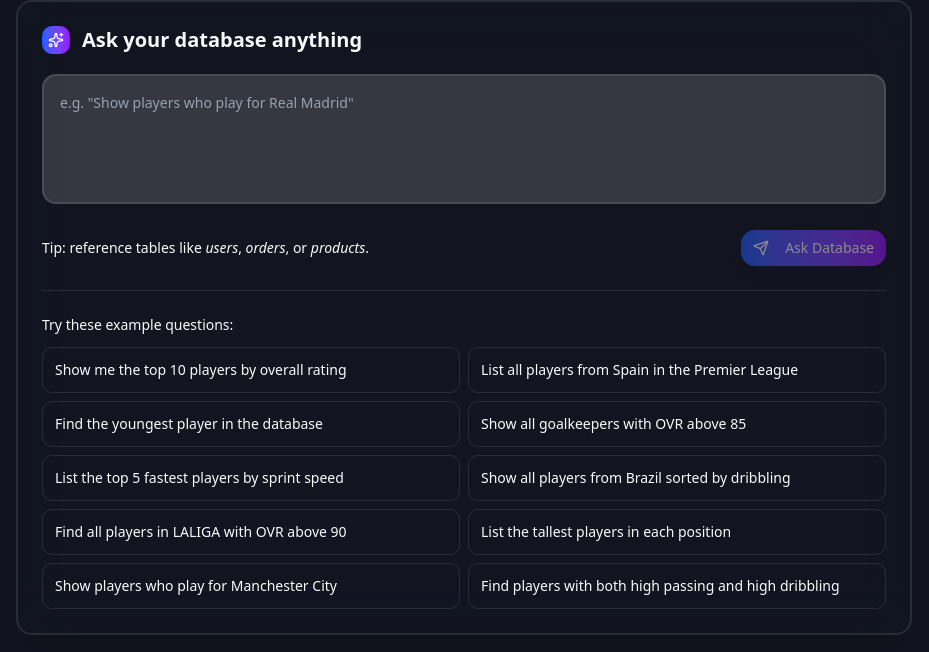
it: QueryInput › Example Questions › fills textarea when example button is clicked
This screenshot has width=929, height=652.
Step 1. Click the button "Show me the top 10 players by overall rating" → (251, 370), box [42, 347, 460, 393]
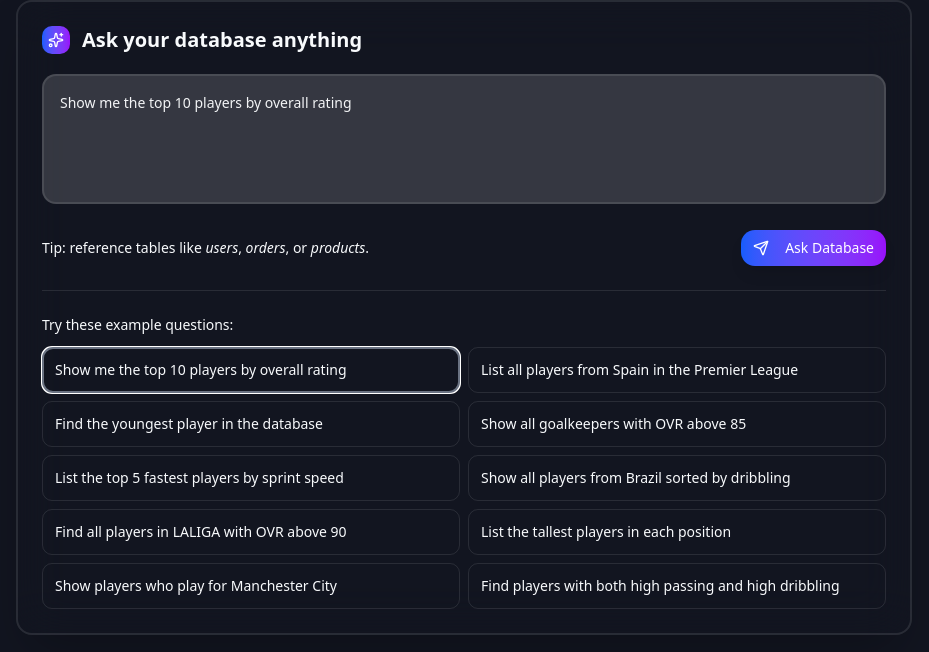
Now the text box holds "Show me the top 10 players by overall rating", box [42, 74, 886, 204]
